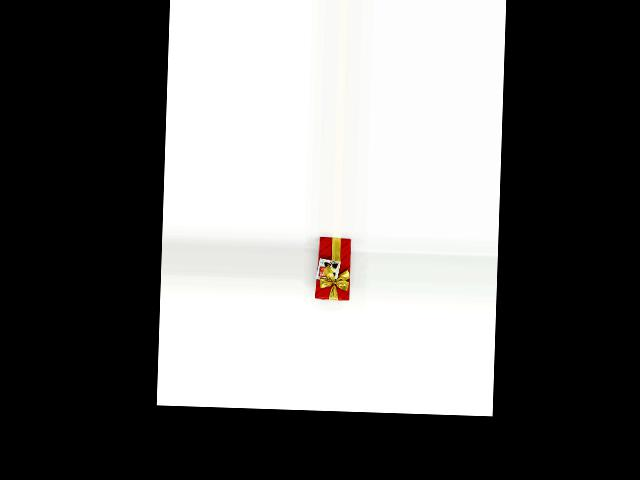chocolate: (315, 237, 354, 302)
